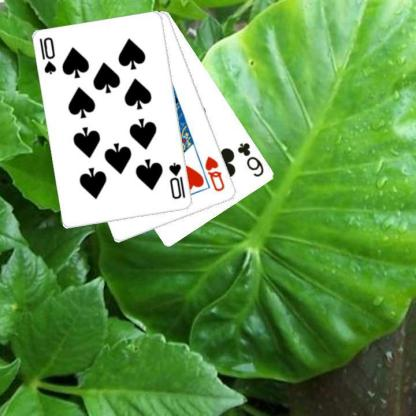10S: (166, 160, 188, 201), (37, 35, 58, 76)
6C: (235, 140, 266, 178)
QH: (202, 154, 227, 193)
